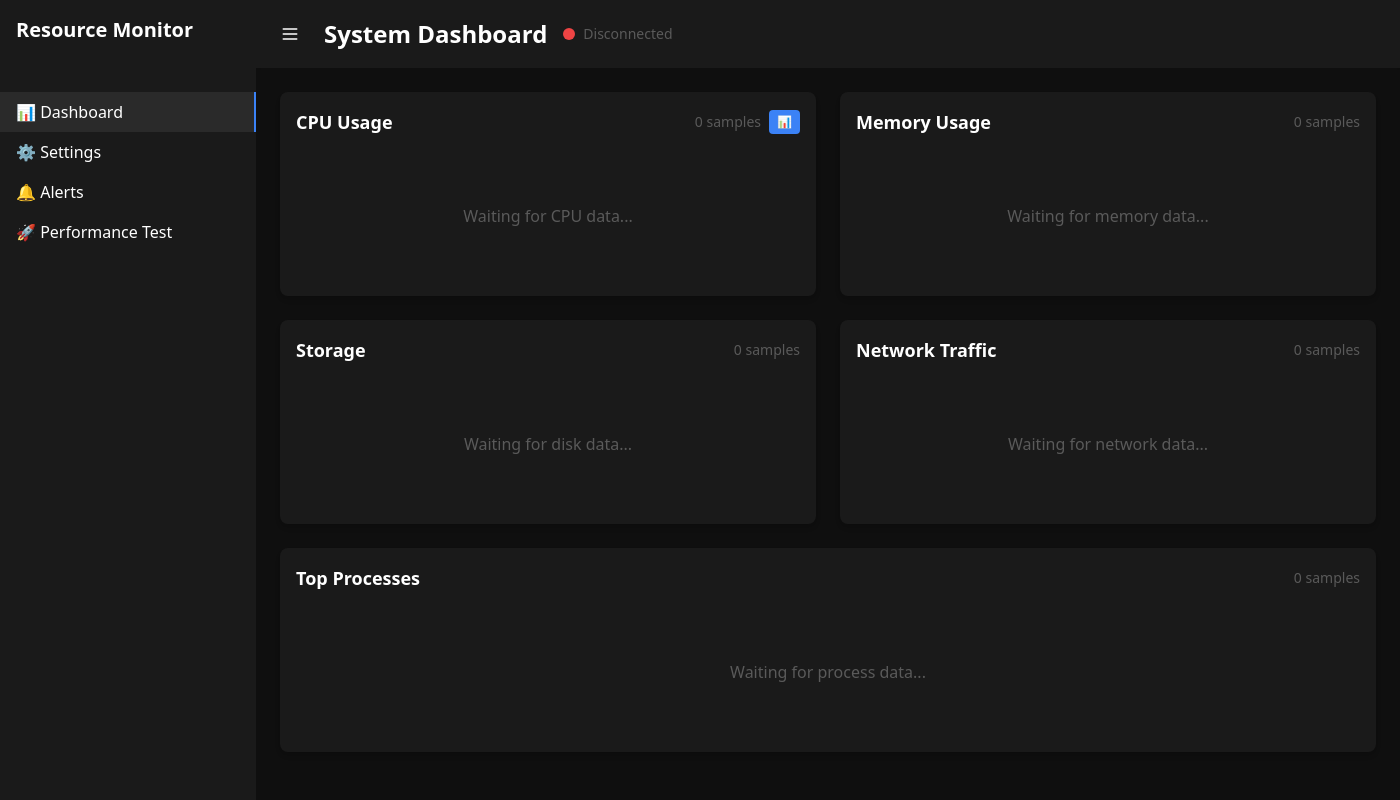
Test: Navigation E2E Tests › navigates to settings page
// Look for settings navigation (assuming there's a settings link/button)
Step 1. Click the link with test id "settings-nav" → (59, 152), box [16, 141, 101, 163]
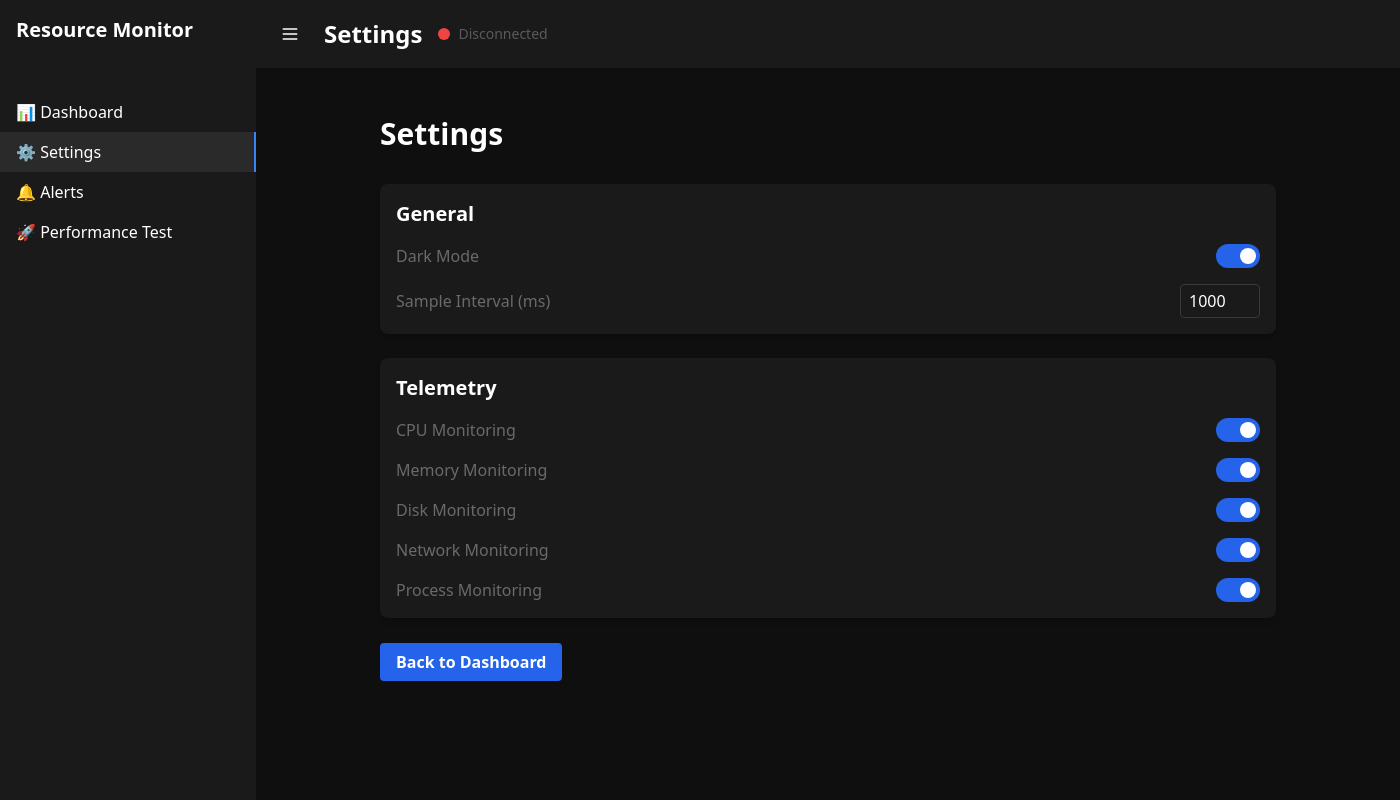
Expected: the 2nd heading "Settings" is shown, [380, 113, 503, 154]
